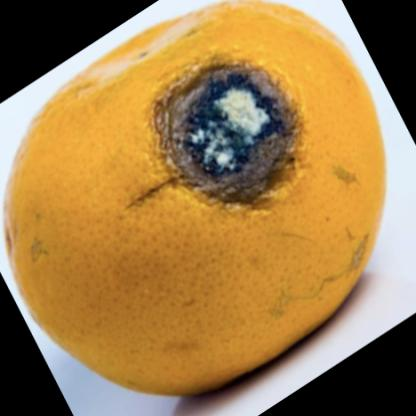rotten: (10, 3, 389, 396)
